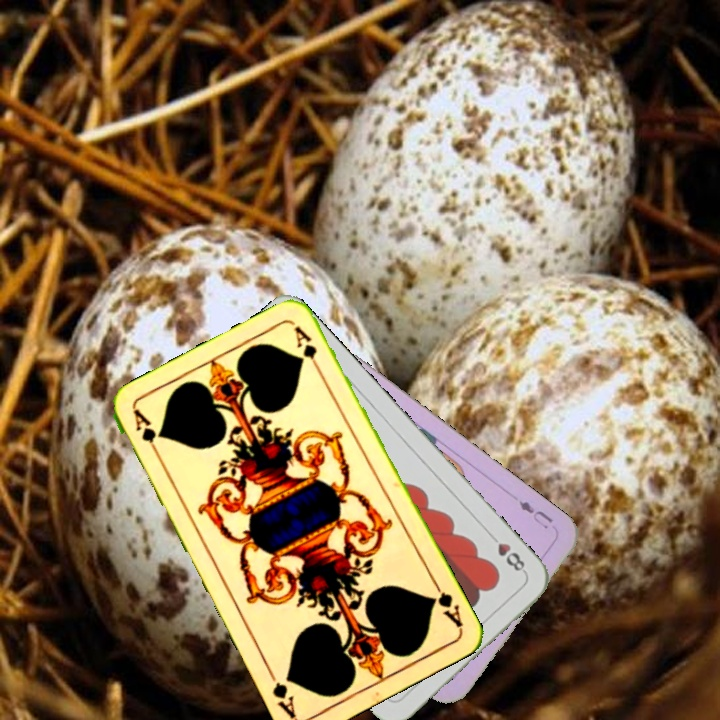EU: (514, 496, 556, 532)
GA: (426, 576, 466, 630), (130, 406, 164, 462)
H8: (484, 529, 529, 576)
